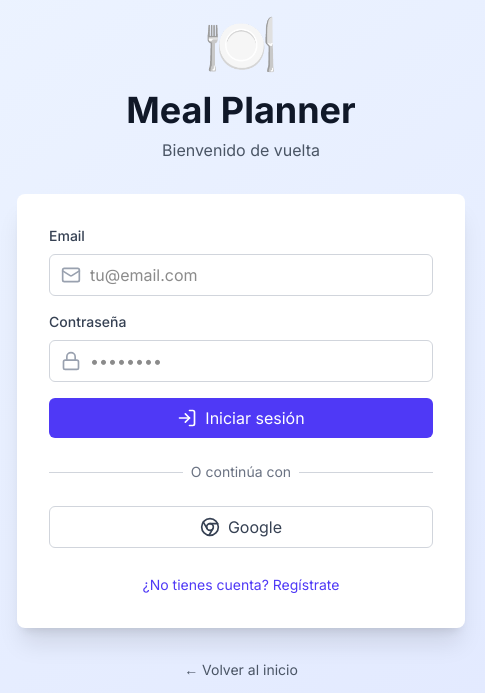
Scenario: LoginPage Component › Email/Password Login › disables form during submission
// Fill form
Type "test@example.com" into the field labelled "Email". click: [241, 275]
box: [49,254,433,296]
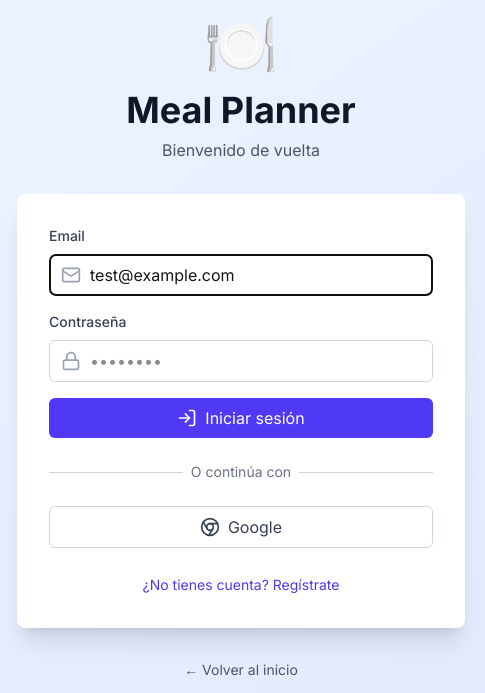
Type "password123" into the password field labelled "Contraseña". click: [241, 361]
box: [49,340,433,382]
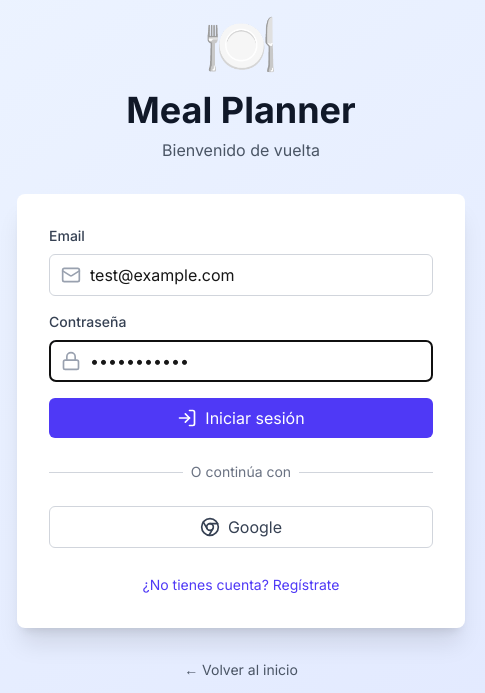
Click the button "Iniciar sesión". click: [241, 418]
box: [49,398,433,438]
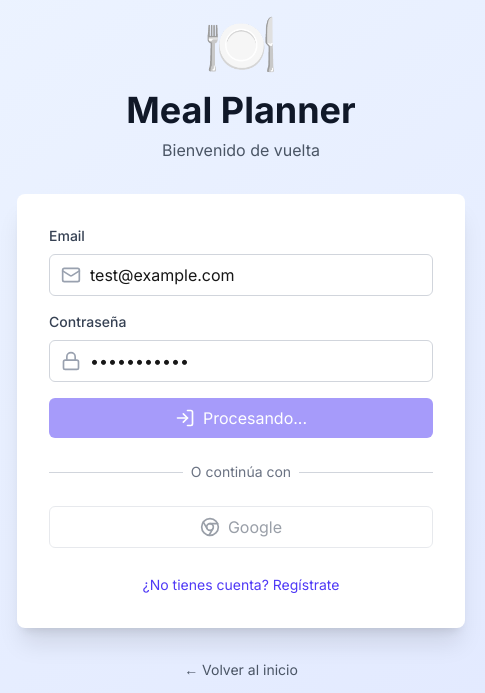
Check: the field labelled "Email" is disabled, box [49,254,433,296]
Check: the button "Procesando..." is shown, box [49,398,433,438]
